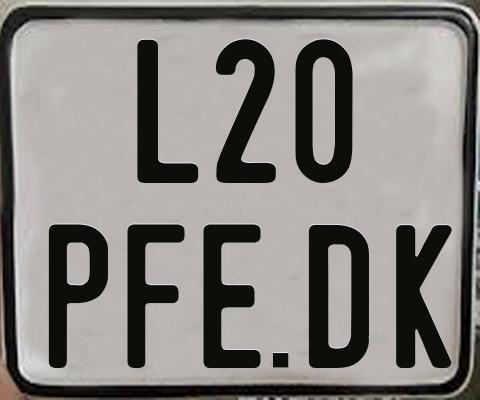0: (293, 36, 355, 182)
2: (215, 37, 277, 183)
D: (306, 222, 366, 365)
E: (201, 221, 261, 367)
F: (126, 221, 188, 371)
K: (394, 222, 456, 365)
L: (136, 38, 203, 181)
P: (49, 222, 113, 370)
